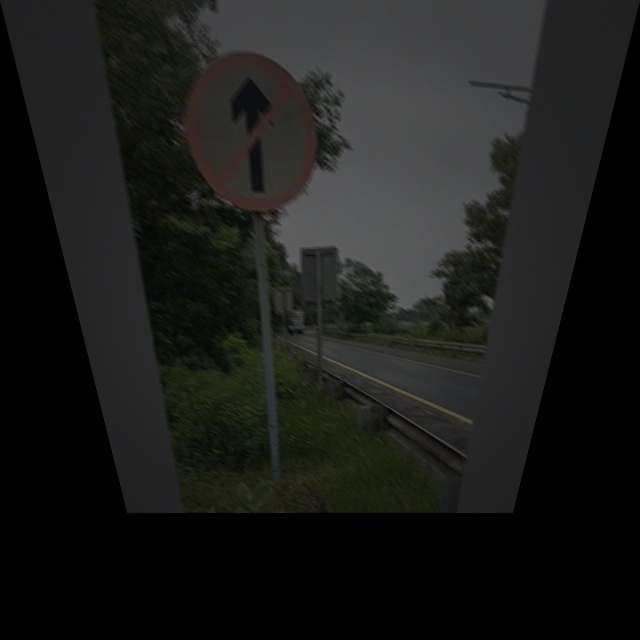No_Entry: (175, 55, 319, 208)
